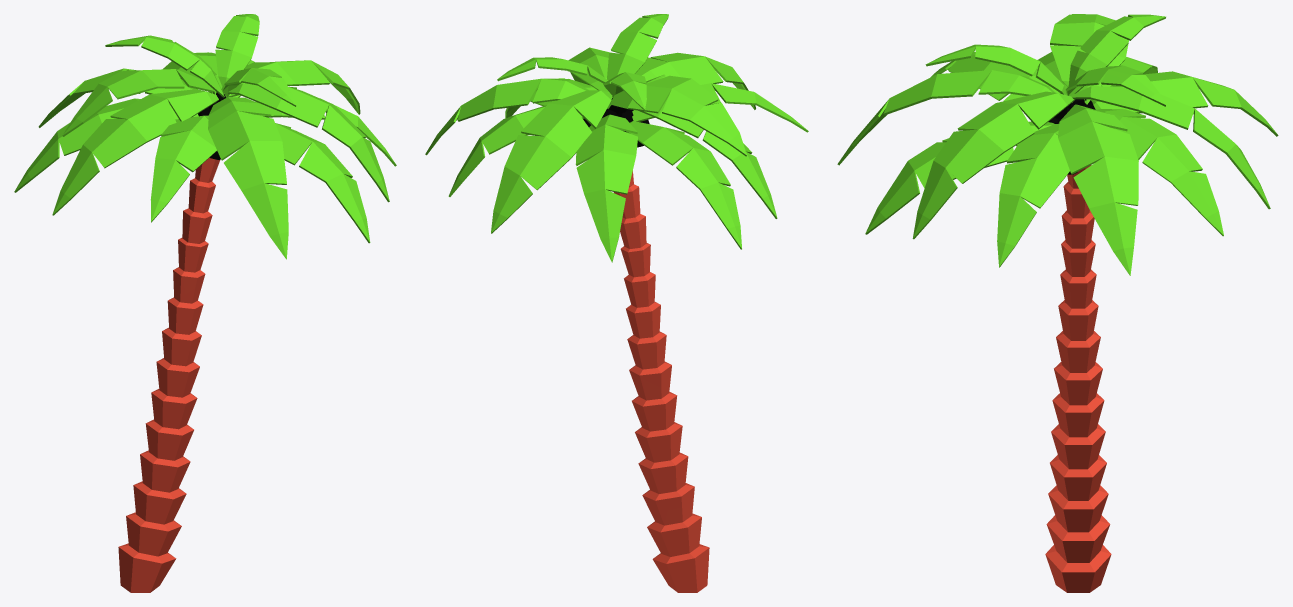
The model's file is Palm_10.fbx.
The picture shows the model from 3 angles, left to right: view 1: azimuth 30°, elevation 25°; view 2: azimuth 150°, elevation 25°; view 3: azimuth 270°, elevation 25°; orthographic projection. The views are drawn at different scales.
Visible parts, largest first — view 1: Palm_10; view 2: Palm_10; view 3: Palm_10.
Boxes of the visible parts, x1=… form: Palm_10: x1=14, y1=14, x2=396, y2=592; Palm_10: x1=425, y1=14, x2=808, y2=592; Palm_10: x1=837, y1=14, x2=1278, y2=592.
Size of the model in its own units: 2.83 by 4.23 by 2.89.
